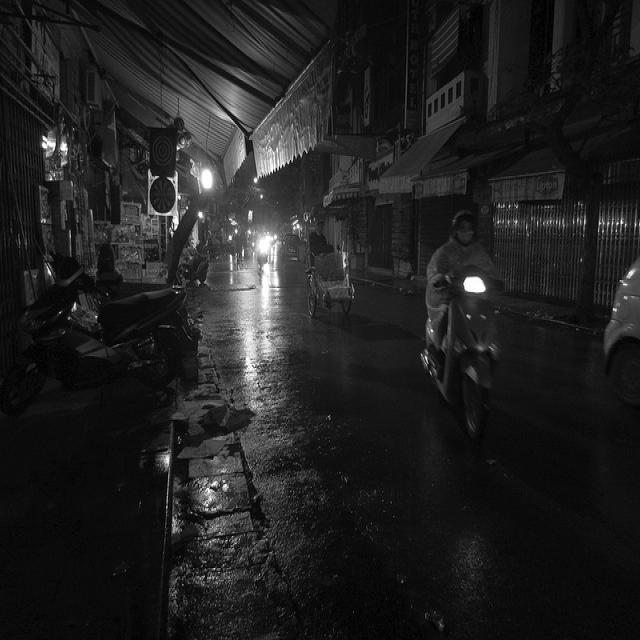Motorbike: (41, 245, 211, 410), (428, 232, 508, 436), (246, 224, 272, 288)
